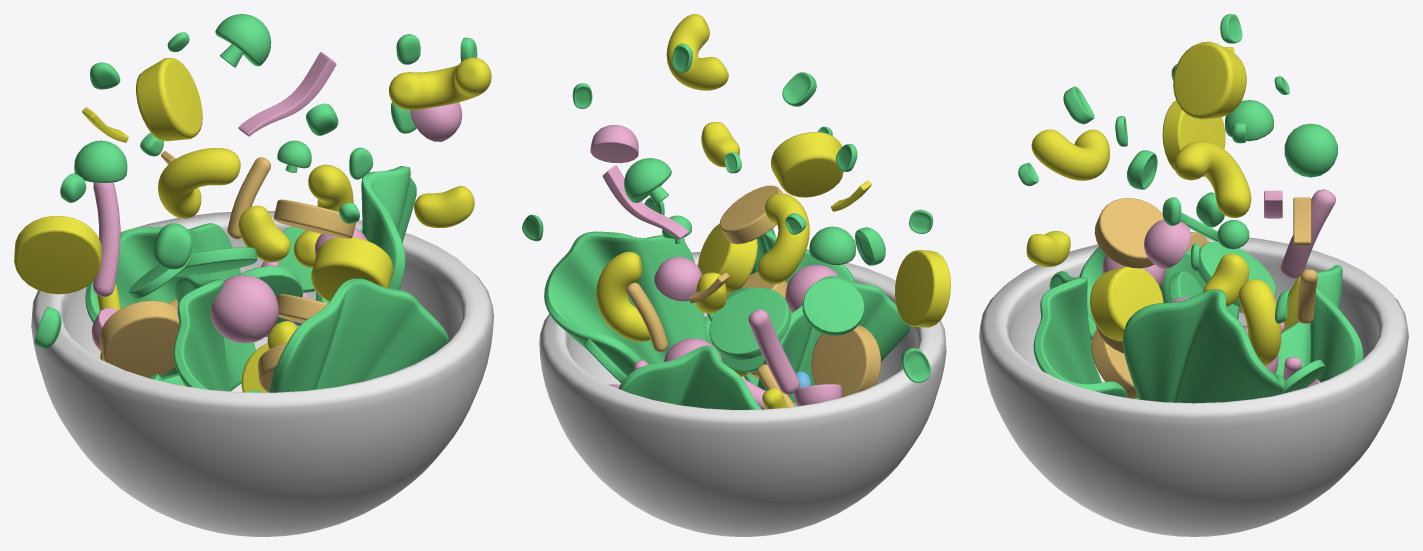
File: DGLXX_vegetable.fbx
3 views of the same model, side by side, from view 1: azimuth 30°, elevation 25°; view 2: azimuth 150°, elevation 25°; view 3: azimuth 270°, elevation 25° (orthographic). The views are drawn at different scales.
Visible parts, largest first — view 1: pSphere2, pPlane4, group6_2, pPlane6, pPlane5, group7_1, pPlane7, group7_8, pTorus2, pTorus1, group7_2, group7_3 (+25 smaller); view 2: pSphere2, pPlane7, pPlane6, pPlane5, group7_8, group7_1, group4_4, group6_2, pTorus3, group3_4, pTorus2, pTorus1 (+21 smaller); view 3: pSphere2, pPlane7, pPlane4, pPlane6, group7_8, group7_3, group6_3, pTorus2, pTorus1, pTorus3, group3_3, group6_2 (+18 smaller).
Part boxes in pixels (<box>): pSphere2: <box>31,211,493,536</box>; pPlane4: <box>269,278,448,392</box>; group6_2: <box>14,216,101,294</box>; pPlane6: <box>85,223,255,390</box>; pPlane5: <box>173,274,261,392</box>; group7_1: <box>99,300,179,377</box>; pPlane7: <box>316,166,416,303</box>; group7_8: <box>136,58,202,141</box>; pTorus2: <box>158,148,240,218</box>; pTorus1: <box>389,57,491,110</box>; group7_2: <box>211,275,278,343</box>; group7_3: <box>311,237,393,301</box>; pSphere2: <box>539,252,946,536</box>; pPlane7: <box>544,231,705,375</box>; pPlane6: <box>618,345,761,409</box>; pPlane5: <box>757,275,910,403</box>; group7_8: <box>771,132,843,197</box>; group7_1: <box>811,325,880,397</box>; group4_4: <box>709,287,791,359</box>; group6_2: <box>895,250,950,327</box>; pTorus3: <box>596,251,650,341</box>; group3_4: <box>802,278,864,335</box>; pTorus2: <box>757,193,809,284</box>; pTorus1: <box>666,14,728,90</box>; pSphere2: <box>979,236,1408,536</box>; pPlane7: <box>1122,289,1285,403</box>; pPlane4: <box>1033,271,1128,397</box>; pPlane6: <box>1276,265,1363,382</box>; group7_8: <box>1173,41,1246,119</box>; group7_3: <box>1090,266,1163,341</box>; group6_3: <box>1094,198,1163,268</box>; pTorus2: <box>1174,141,1251,217</box>; pTorus1: <box>1031,129,1109,180</box>; pTorus3: <box>1238,279,1281,365</box>; group3_3: <box>1284,123,1337,177</box>; group6_2: <box>1162,100,1225,176</box>.
Size of the model in its own units: 477 by 496 by 431.
